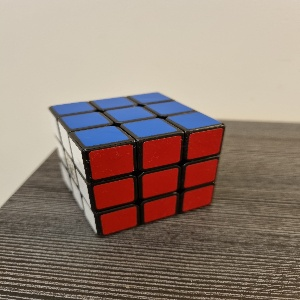cube: (48, 92, 226, 239)
